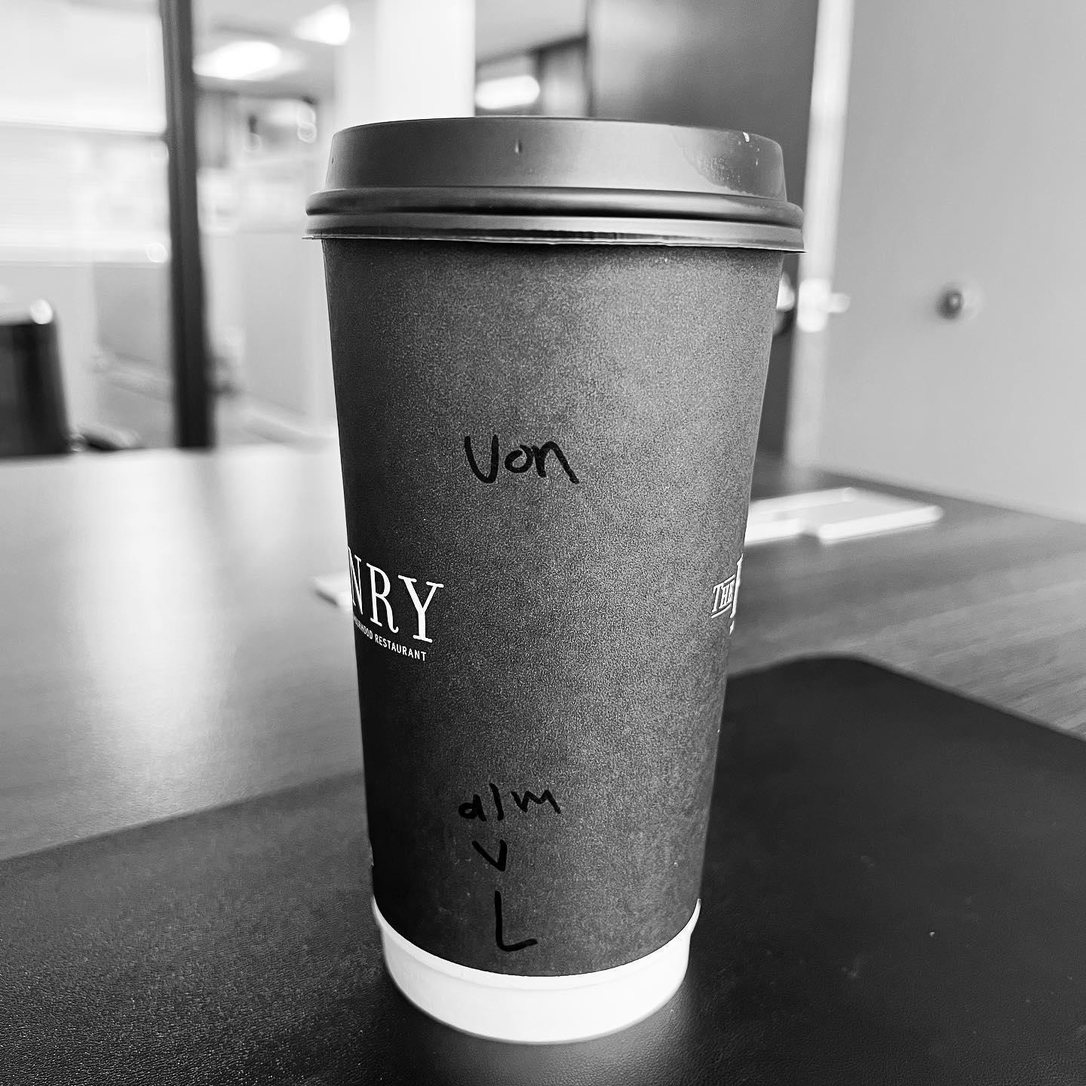cup-disposable: (302, 99, 822, 1051)
